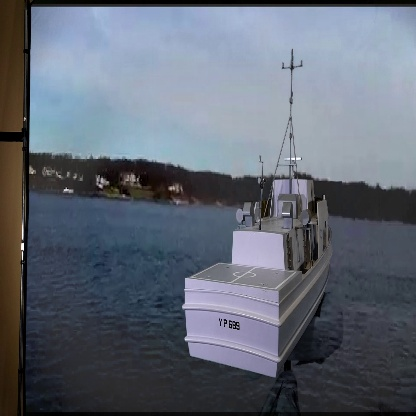YP689: (183, 52, 334, 379)
